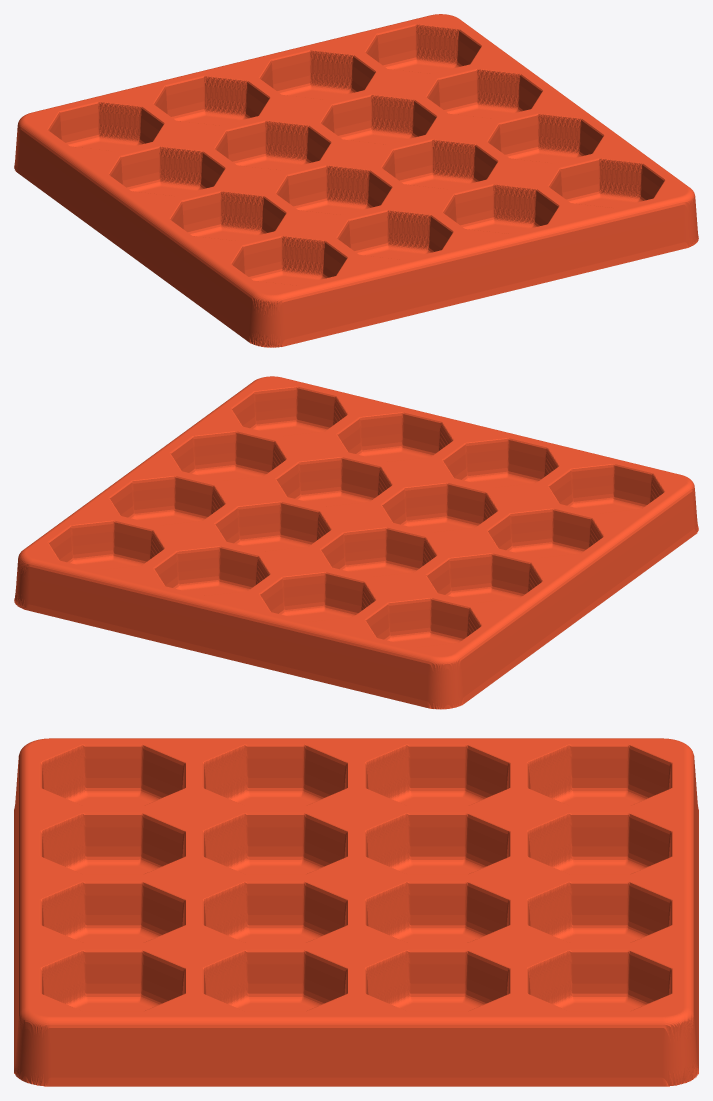
Rendered from mold.glb.
3 renders of one model, top to bottom at view 1: azimuth 30°, elevation 25°; view 2: azimuth 150°, elevation 25°; view 3: azimuth 270°, elevation 25°, orthographic. The views are drawn at different scales.
Parts seen in each view (by area): view 1: geometry_0; view 2: geometry_0; view 3: geometry_0.
Part boxes in pixels (x1,y1,x2,y2): geometry_0: (14, 14, 698, 347); geometry_0: (14, 376, 698, 709); geometry_0: (14, 738, 698, 1086).
Bounding box in the file's own units: 0.1702 × 0.0175 × 0.1702.
